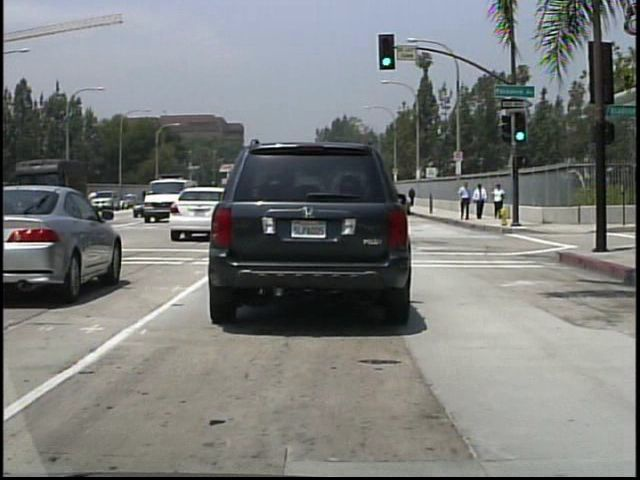person: (458, 179, 474, 222), (491, 183, 506, 220), (473, 183, 488, 220), (409, 185, 417, 208)
